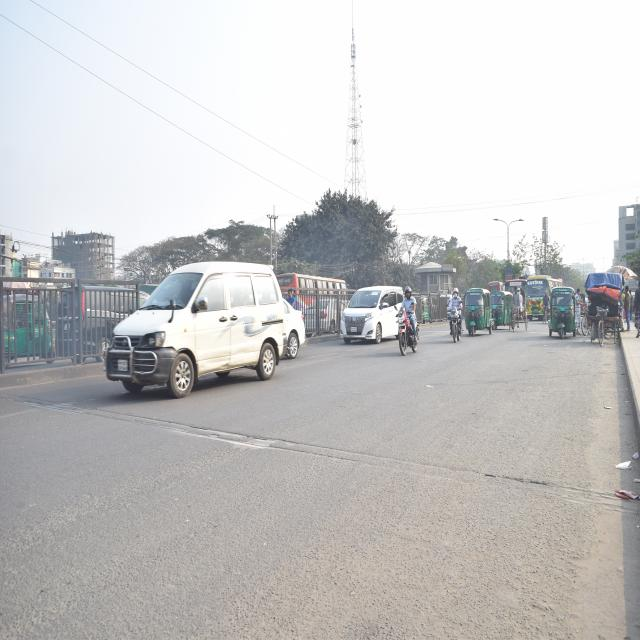bus: (521, 273, 552, 331)
car: (286, 292, 311, 367)
microbus: (102, 256, 290, 411), (336, 276, 397, 347)
motorbike: (395, 301, 424, 359), (442, 297, 466, 348)
